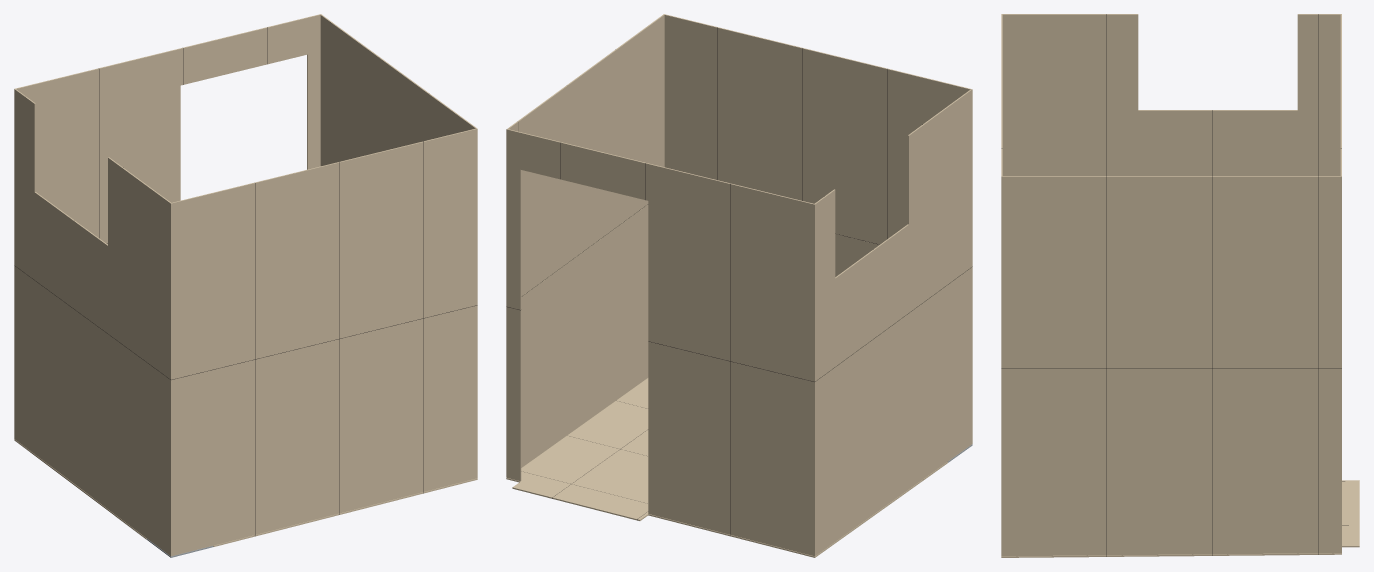
Rendered from bathroom_120.glb.
The picture shows the model from 3 angles, left to right: view 1: azimuth 30°, elevation 25°; view 2: azimuth 150°, elevation 25°; view 3: azimuth 270°, elevation 25°; orthographic projection. The views are drawn at different scales.
Visible parts, largest first — view 1: wall_tile (×24); view 2: wall_tile (×26), floor_tile (×5); view 3: wall_tile (×12), floor_tile (×2).
Boxes of the visible parts, box(x1,y1,x2,y2) form: wall_tile (×24): box(14, 14, 477, 556); wall_tile (×26): box(506, 14, 972, 556); floor_tile (×5): box(506, 401, 648, 520); wall_tile (×12): box(1001, 14, 1341, 556); floor_tile (×2): box(1318, 481, 1359, 554).
Size of the model in its own units: 2.18 by 2.4 by 2.03.
